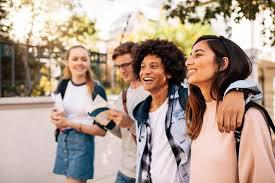Person: (185, 39, 257, 183), (47, 47, 105, 183), (126, 46, 182, 183)
